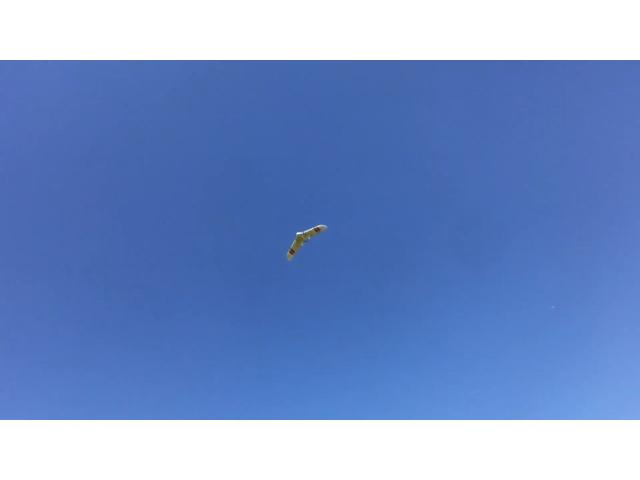Anti-Drone: (282, 212, 330, 270)
